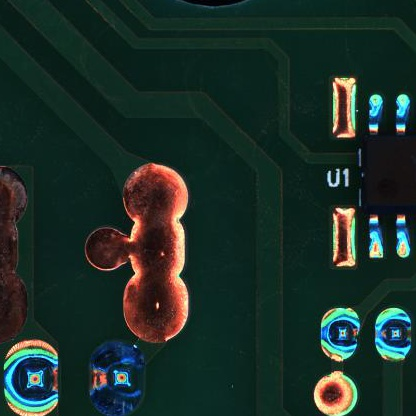spot: (88, 339, 147, 416), (11, 338, 58, 416), (319, 307, 361, 363), (375, 308, 413, 363)
